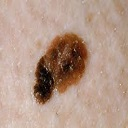Melanoma: (29, 35, 88, 102)
